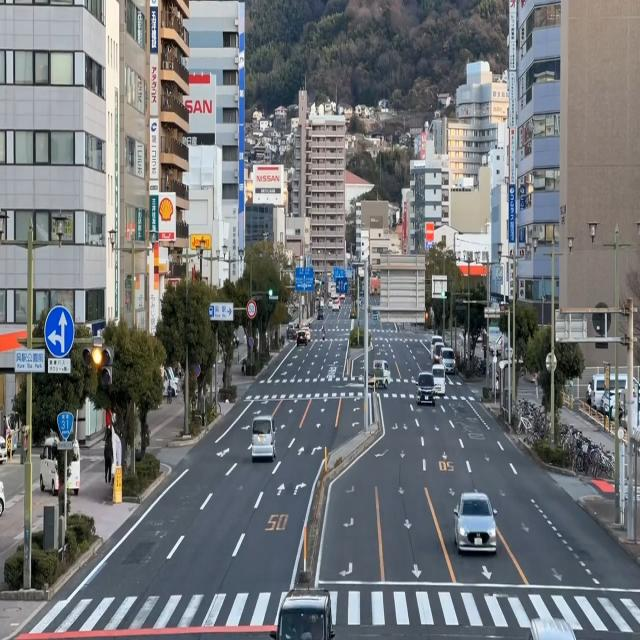Car: (451, 486, 499, 564), (276, 589, 332, 640), (35, 441, 83, 497), (248, 410, 279, 469), (415, 370, 437, 408), (429, 358, 446, 397), (439, 345, 457, 372), (298, 325, 310, 350)
Truck: (362, 356, 393, 390)
